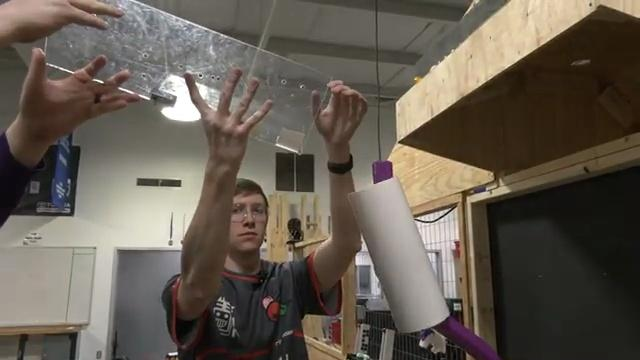CORAL: (347, 176, 451, 335)
